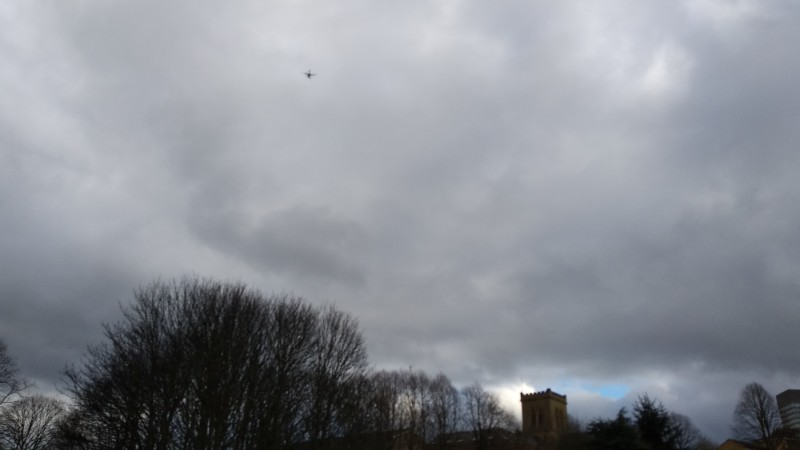drone: (304, 70, 316, 79)
